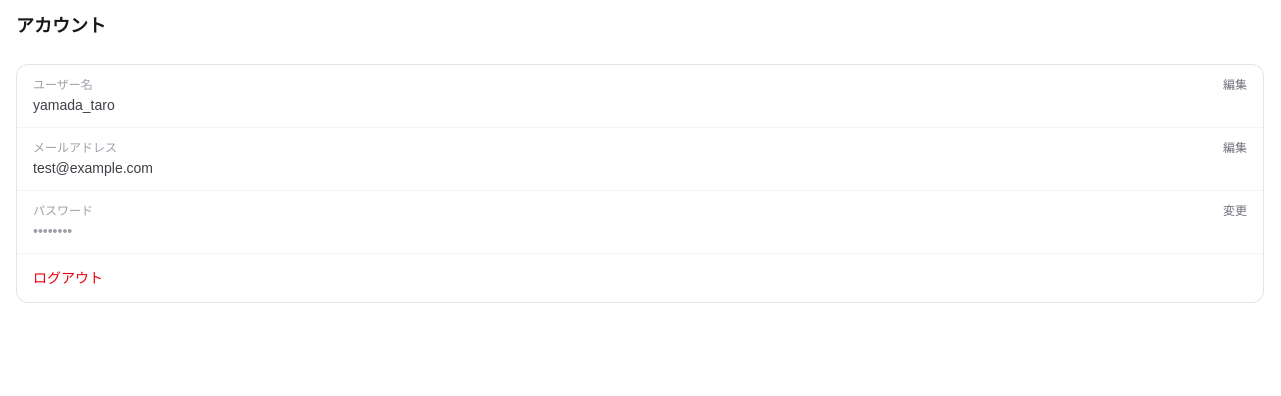
Scenario: AccountTab › updateUsername エラー時にエラーメッセージが表示される
Click the button with aria-label "ユーザー名を編集". click: [1235, 85]
box: 1223,77 -> 1247,93
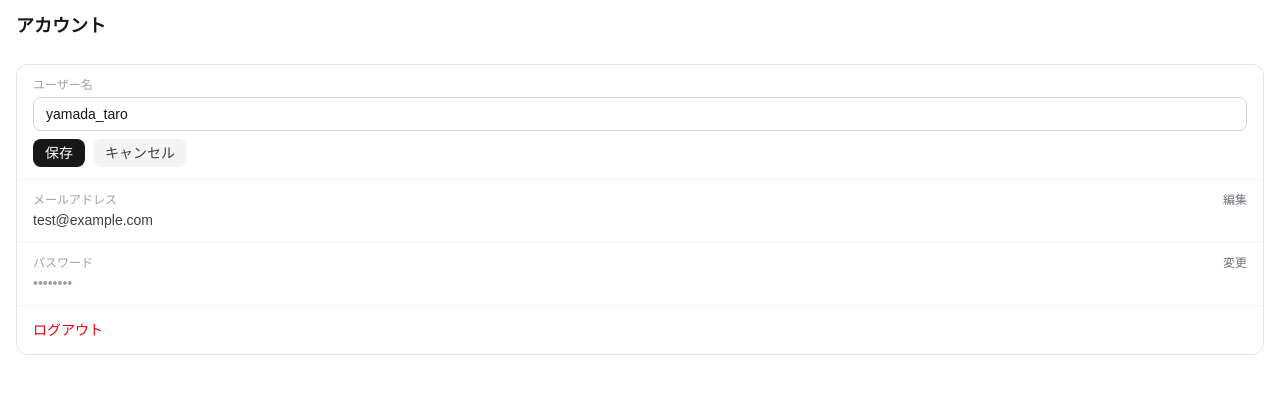
Click the button "保存". click: [59, 153]
box: 33,139 -> 85,167
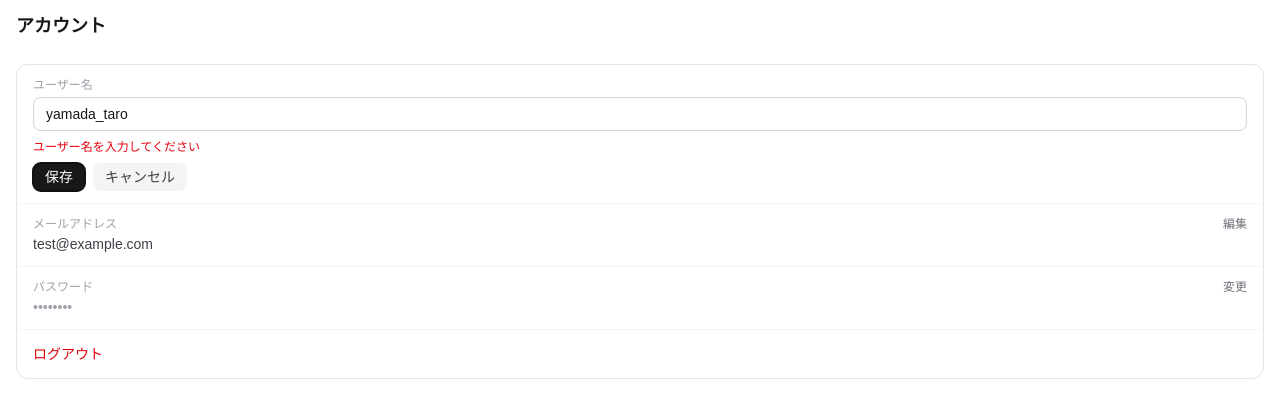
Expected: the text "ユーザー名を入力してください" is shown, 33,140 -> 200,154
